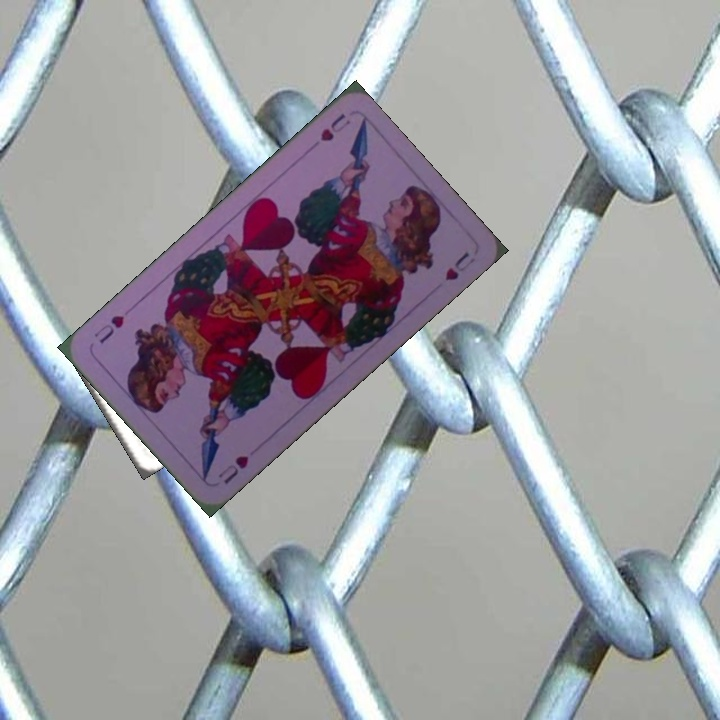HU: (214, 451, 251, 487), (316, 109, 354, 144)
